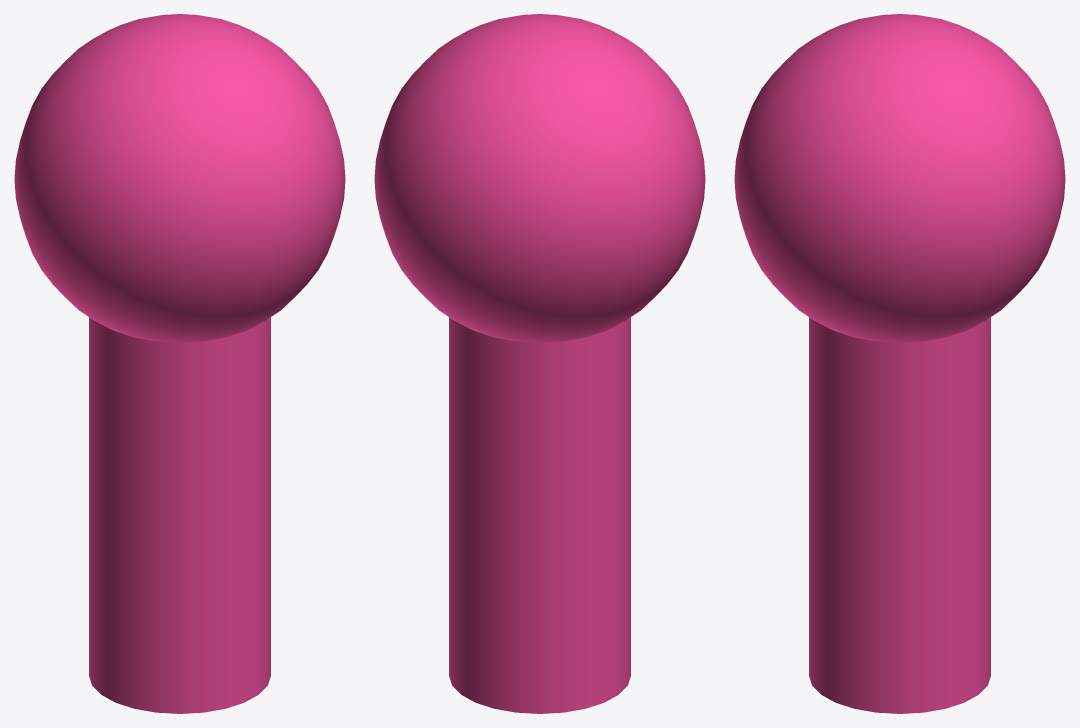
File: person.gltf
The picture shows the model from 3 angles, left to right: view 1: azimuth 30°, elevation 25°; view 2: azimuth 150°, elevation 25°; view 3: azimuth 270°, elevation 25°; orthographic projection.
Visible parts, largest first — view 1: Sphere, Cylinder; view 2: Sphere, Cylinder; view 3: Sphere, Cylinder.
Boxes of the visible parts, x1,y1,x2,y2 form: Sphere: (14, 14, 345, 342); Cylinder: (89, 317, 270, 713); Sphere: (374, 14, 705, 342); Cylinder: (449, 317, 630, 713); Sphere: (734, 14, 1065, 342); Cylinder: (809, 317, 990, 713).
Size of the model in its own units: 1 by 2.15 by 1.
